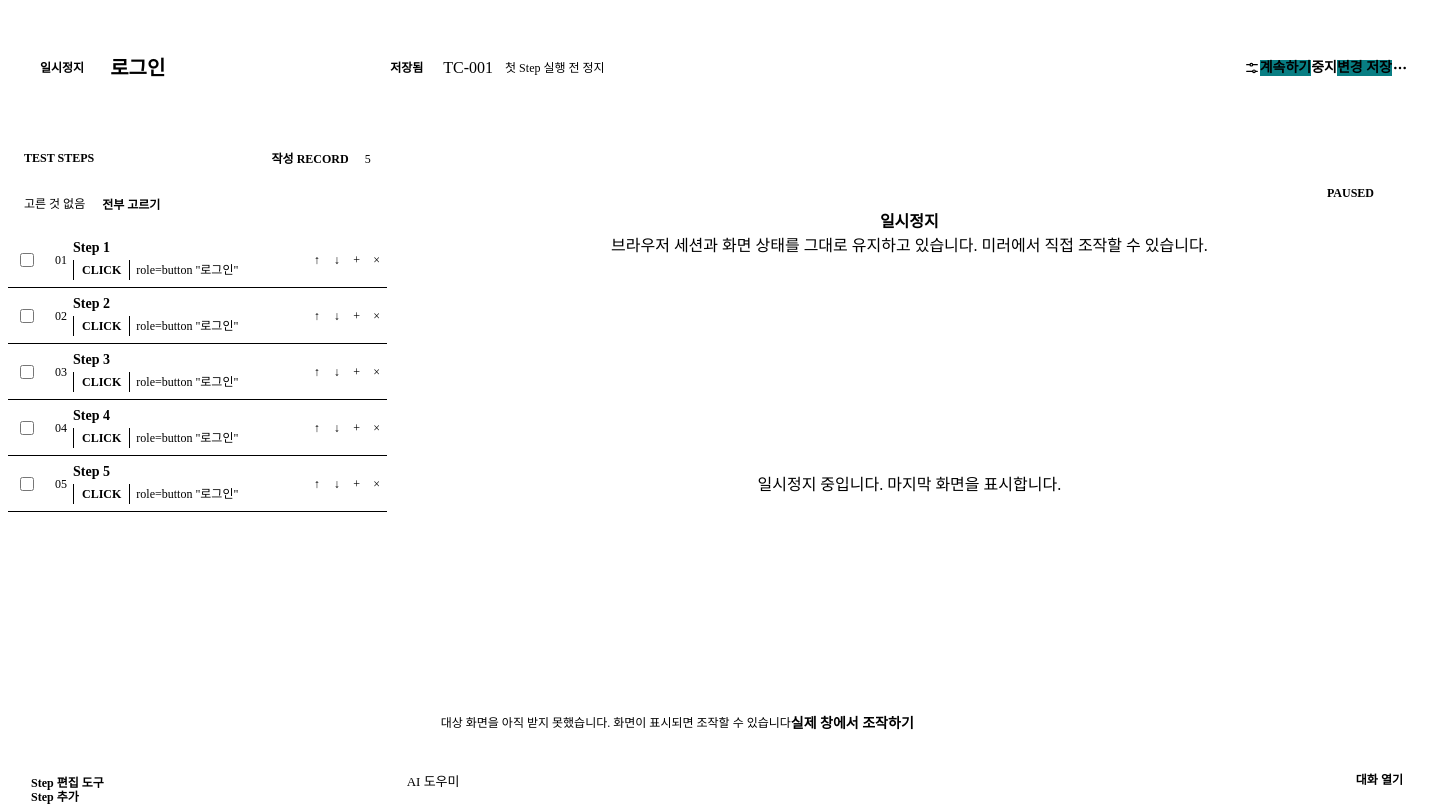
UC-011-17 — 고른 개수가 보인다 › 체크할 때마다 개수가 는다
Click the checkbox named "Step 1 지울 대상으로 고르기": (27, 260) [20, 252, 34, 266]
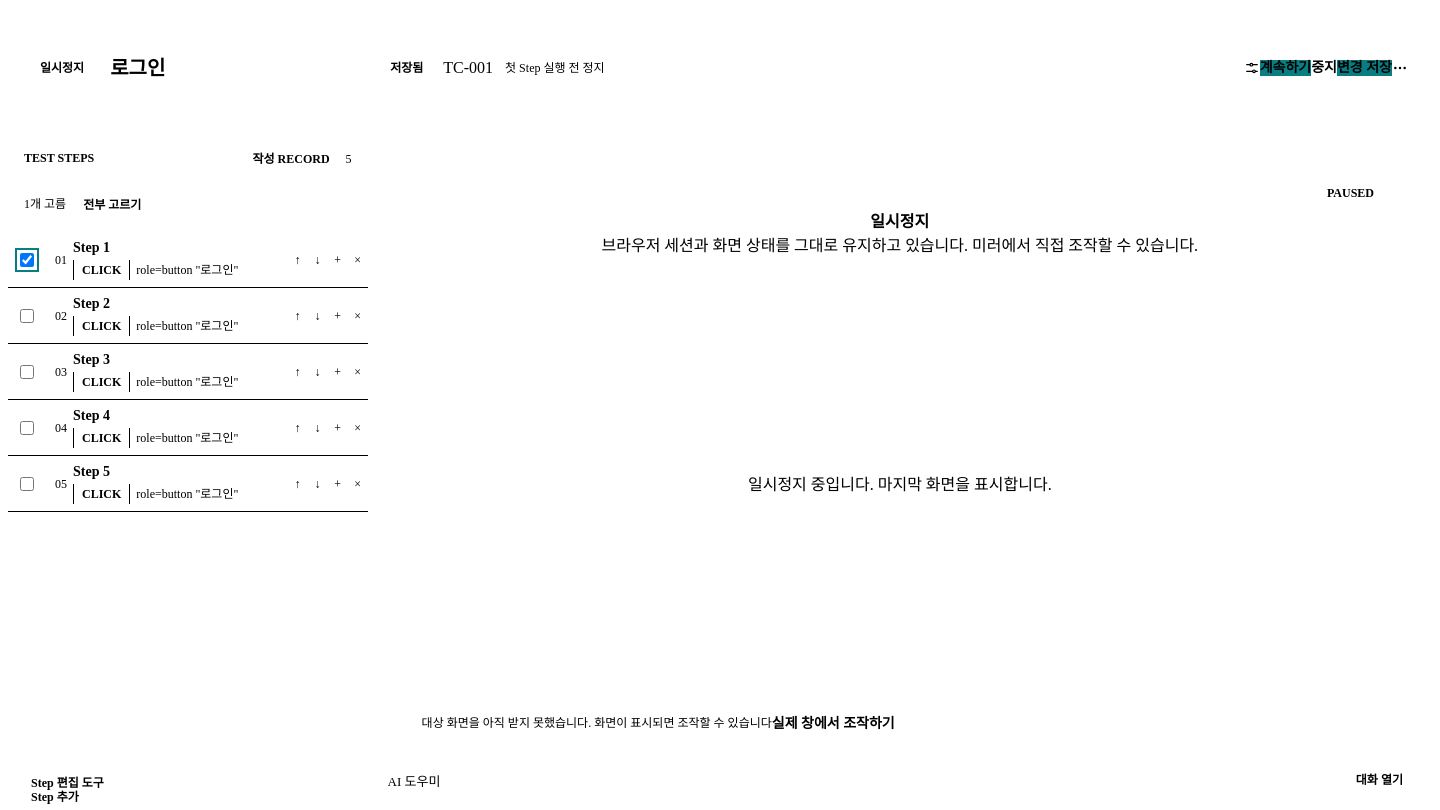
expect the text "1개 고름" is shown: met, box [24, 196, 66, 213]
Click the checkbox named "Step 3 지울 대상으로 고르기": (27, 372) [20, 364, 34, 378]
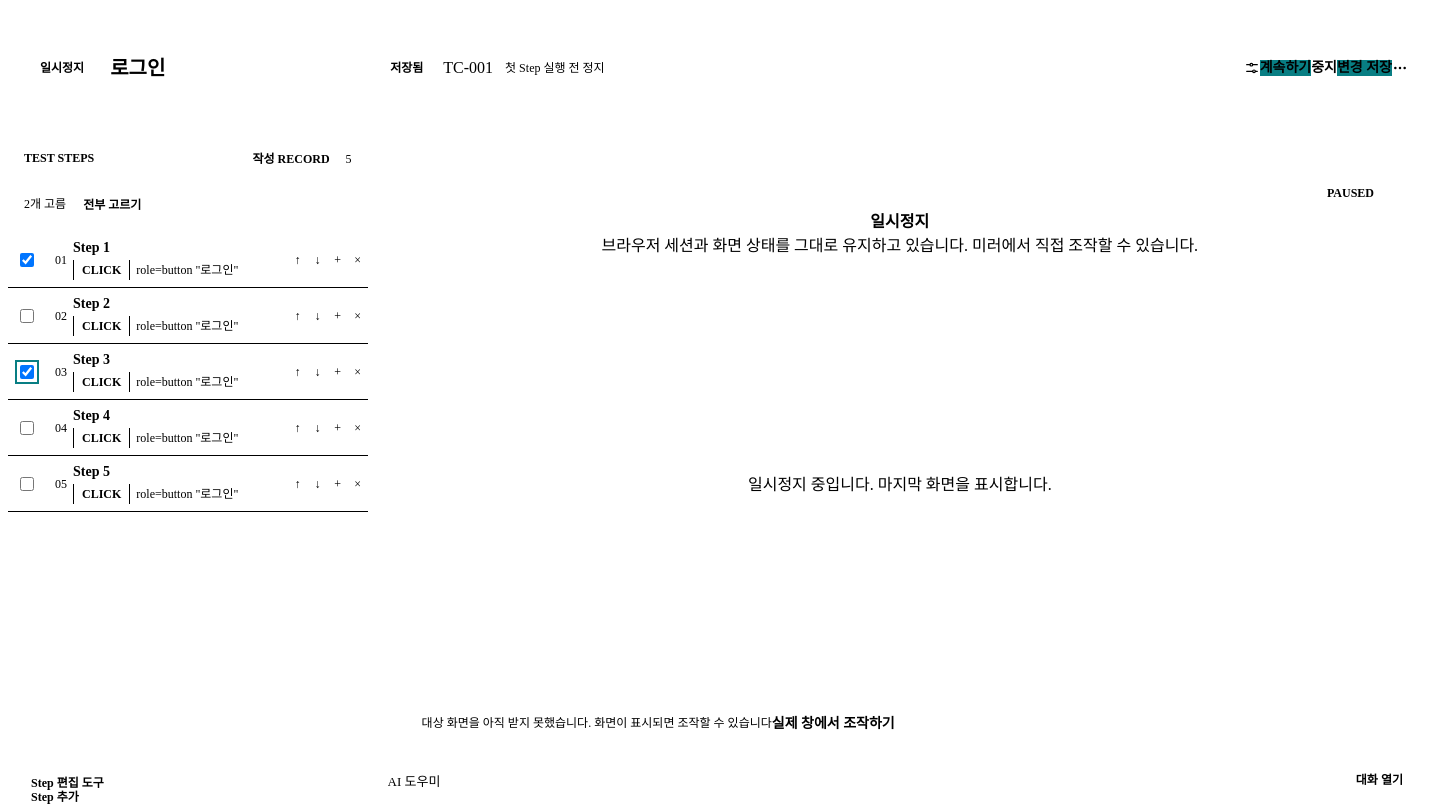
expect the text "2개 고름" is shown: met, box [24, 196, 66, 213]
